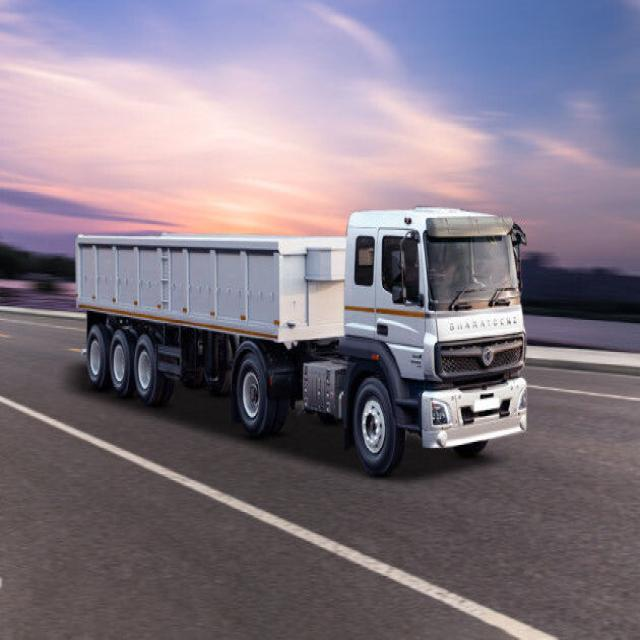truck: (76, 208, 525, 467)
